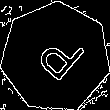P_SW: (25, 26, 86, 88)
